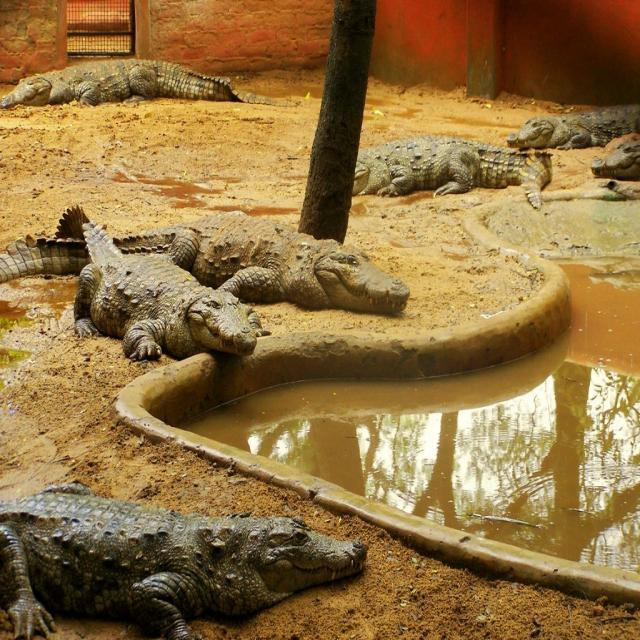crocodile: (0, 176, 435, 375), (0, 463, 389, 639)
